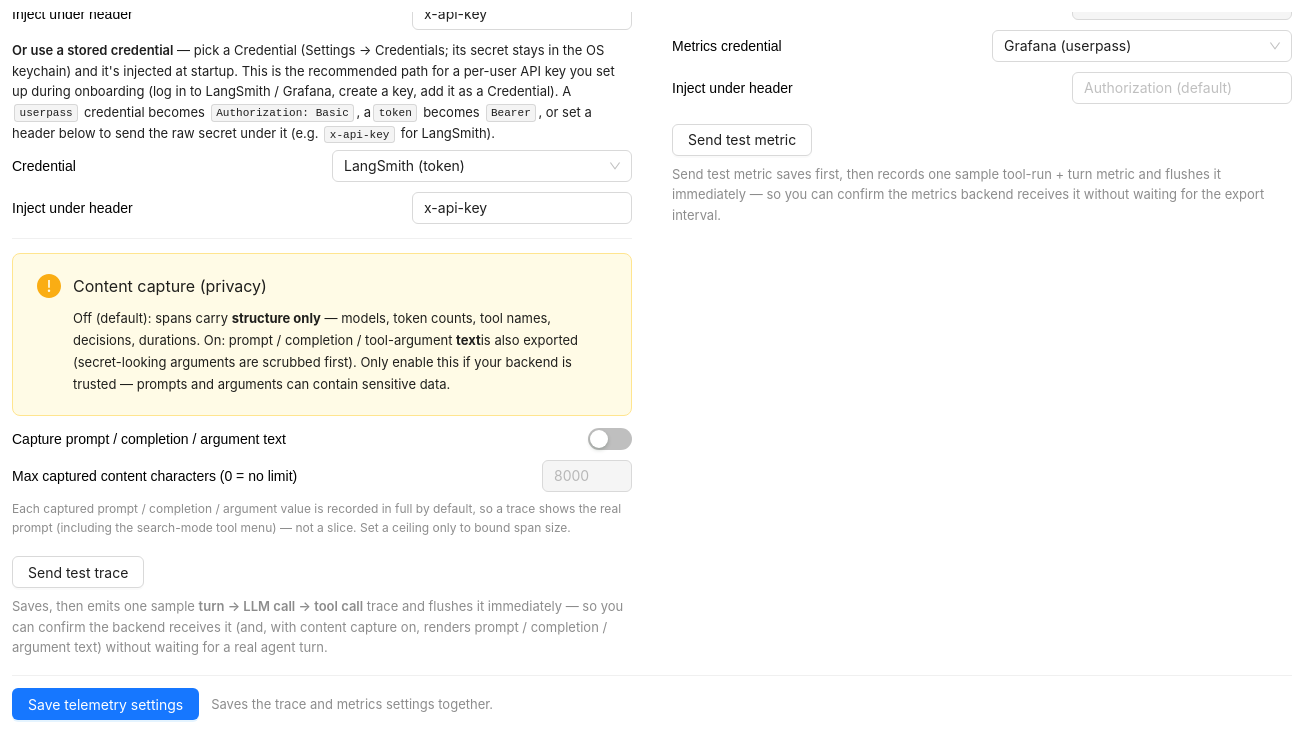
Test case: TelemetryTab Save round-trip › shows a rejected export as a failure with the backend reason
(page scrolled)
Step 1. Click the button "Send test trace" → (78, 572), box [12,556,144,588]
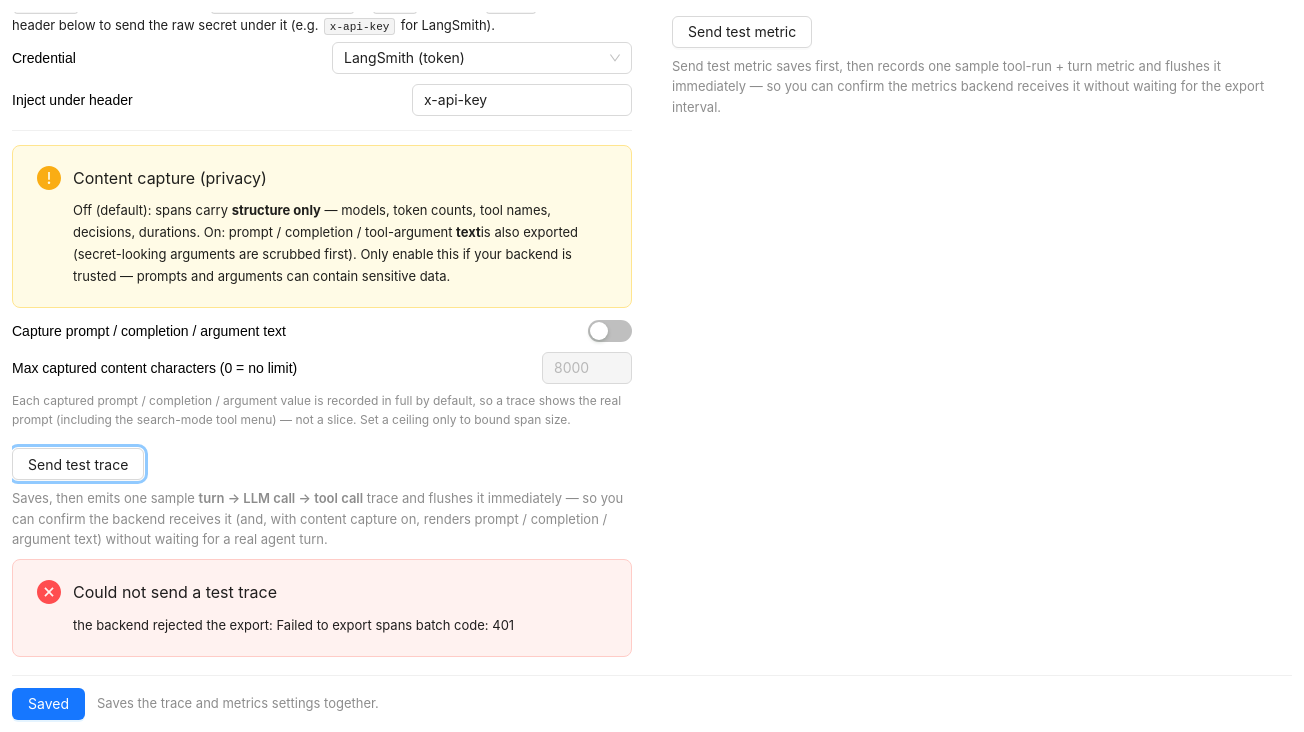
Now the text "Could not send a test trace" is shown, box [73,582,277,602]
Now the text "batch code: 401" is shown, box [73,616,514,632]
